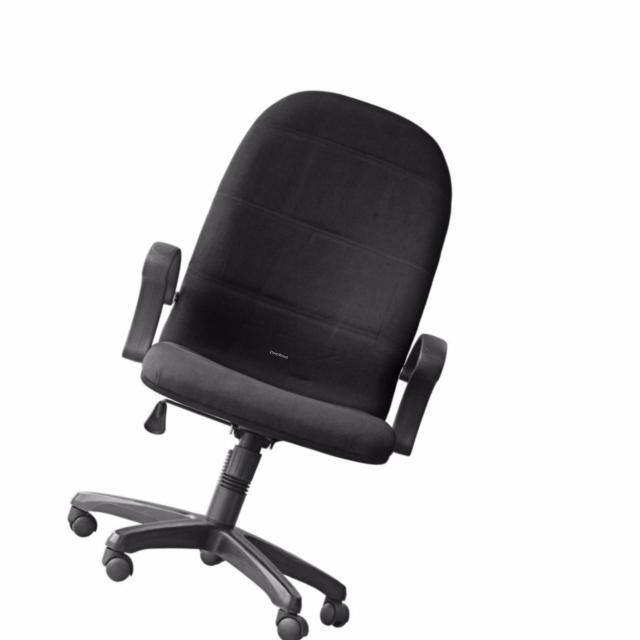chair: (61, 85, 458, 640)
